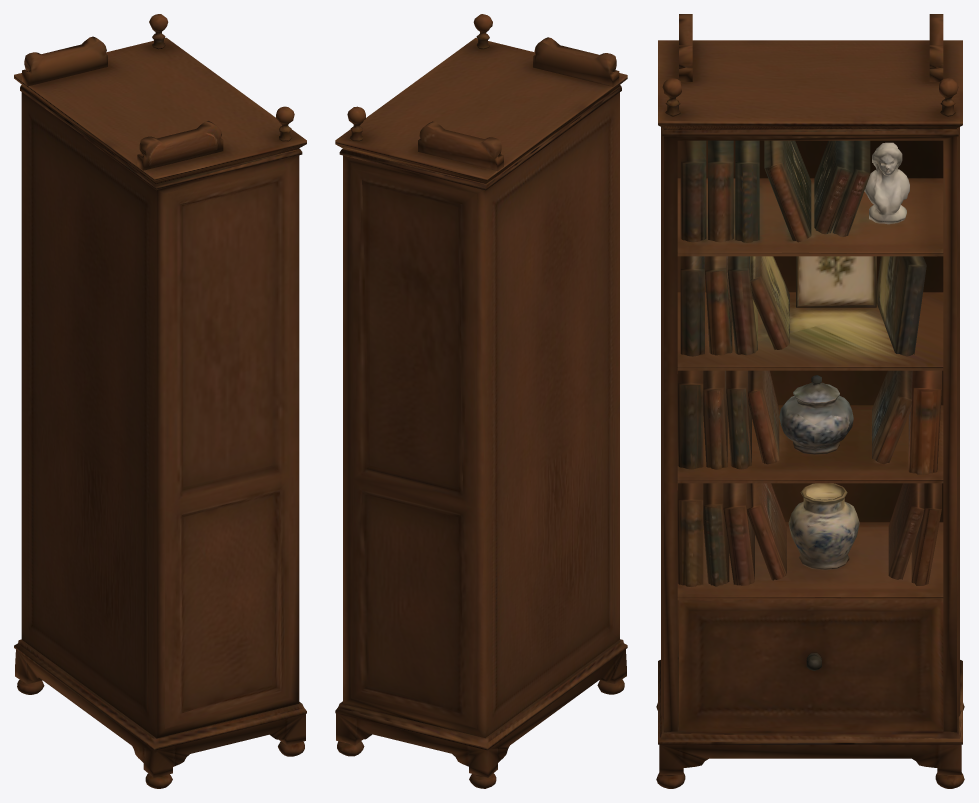
3 renders of one model, left to right at view 1: azimuth 30°, elevation 25°; view 2: azimuth 150°, elevation 25°; view 3: azimuth 270°, elevation 25°, orthographic. The views are drawn at different scales.
Visible parts, largest first — view 1: tripo_node_7dd36082-b6ef-480d-a539-8eba4e709fbd; view 2: tripo_node_7dd36082-b6ef-480d-a539-8eba4e709fbd; view 3: tripo_node_7dd36082-b6ef-480d-a539-8eba4e709fbd.
Boxes of the visible parts, x1=… form: tripo_node_7dd36082-b6ef-480d-a539-8eba4e709fbd: x1=14, y1=14, x2=306, y2=788; tripo_node_7dd36082-b6ef-480d-a539-8eba4e709fbd: x1=335, y1=14, x2=627, y2=788; tripo_node_7dd36082-b6ef-480d-a539-8eba4e709fbd: x1=656, y1=14, x2=964, y2=788.
Bounding box in the file's own units: 0.2559 × 0.998 × 0.3965.
Materials: 1 (1 with a texture image).
